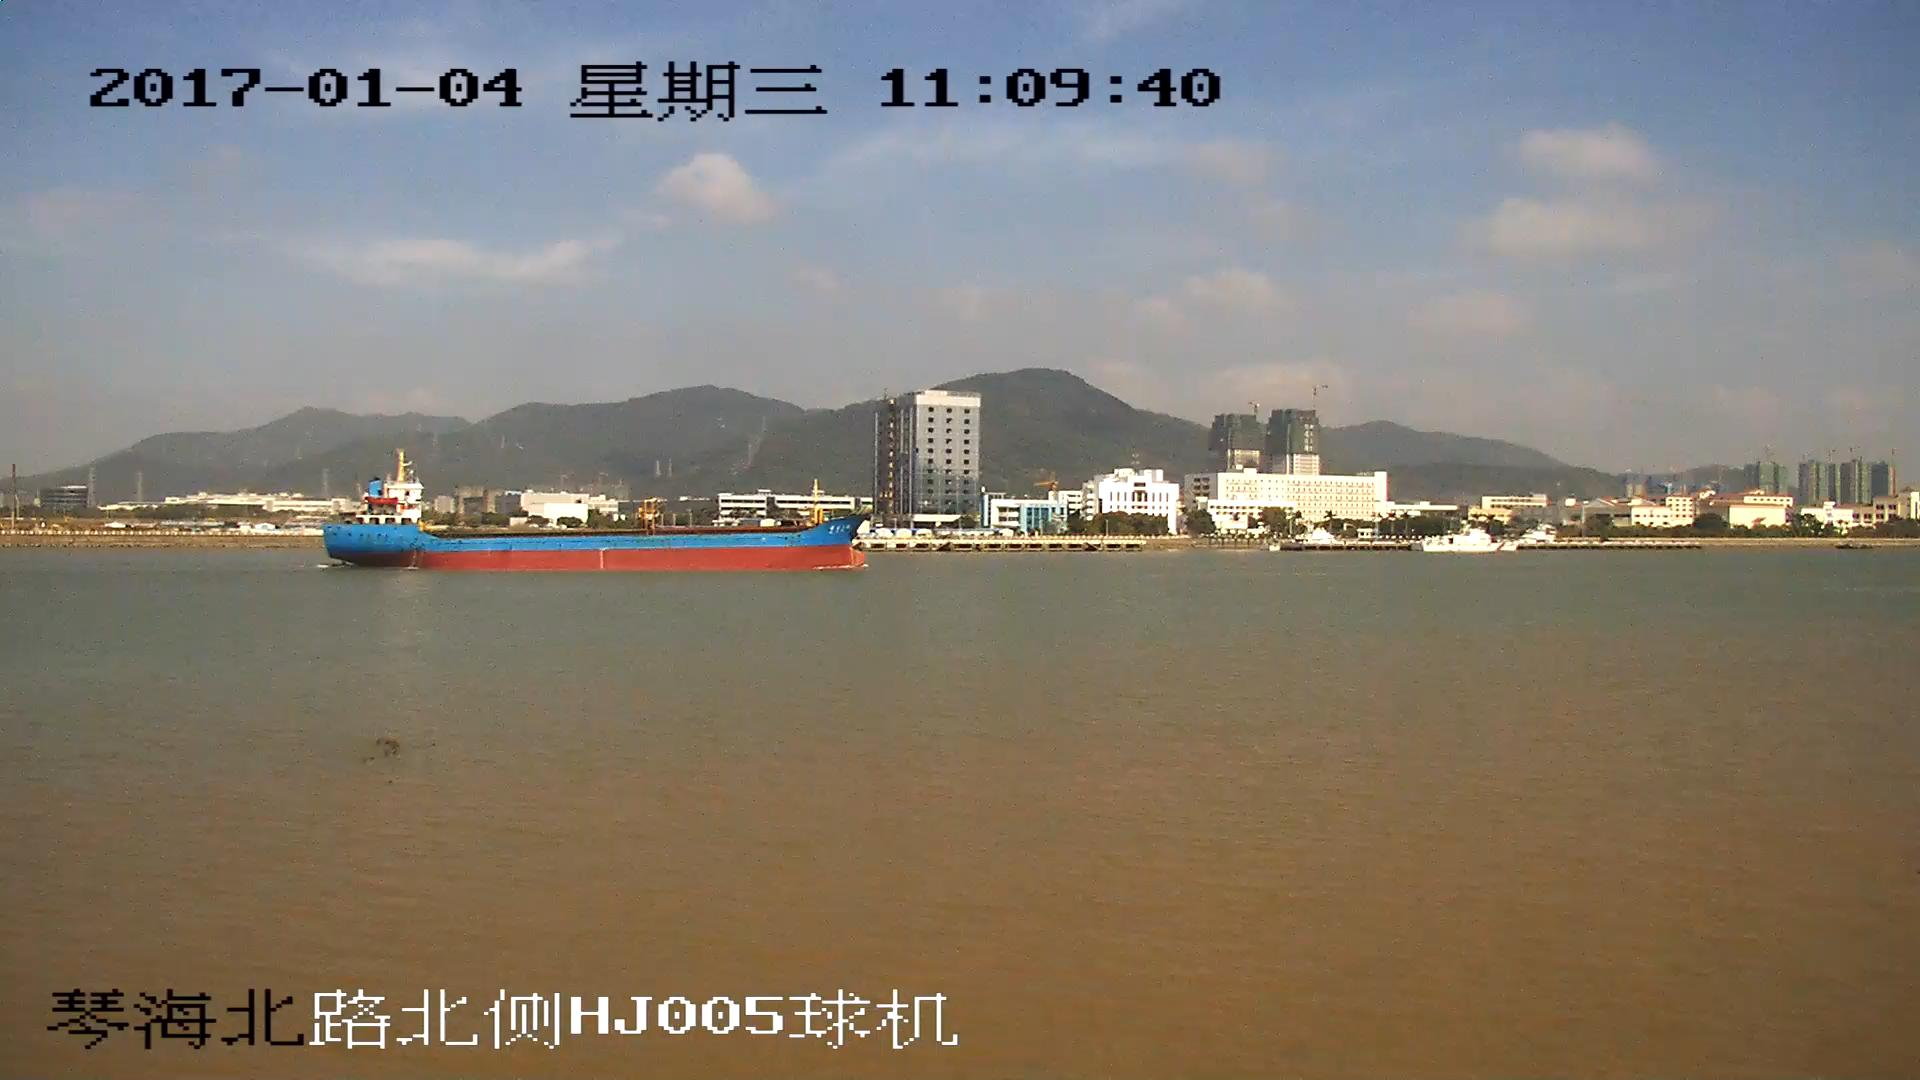general cargo ship: (326, 449, 867, 577)
